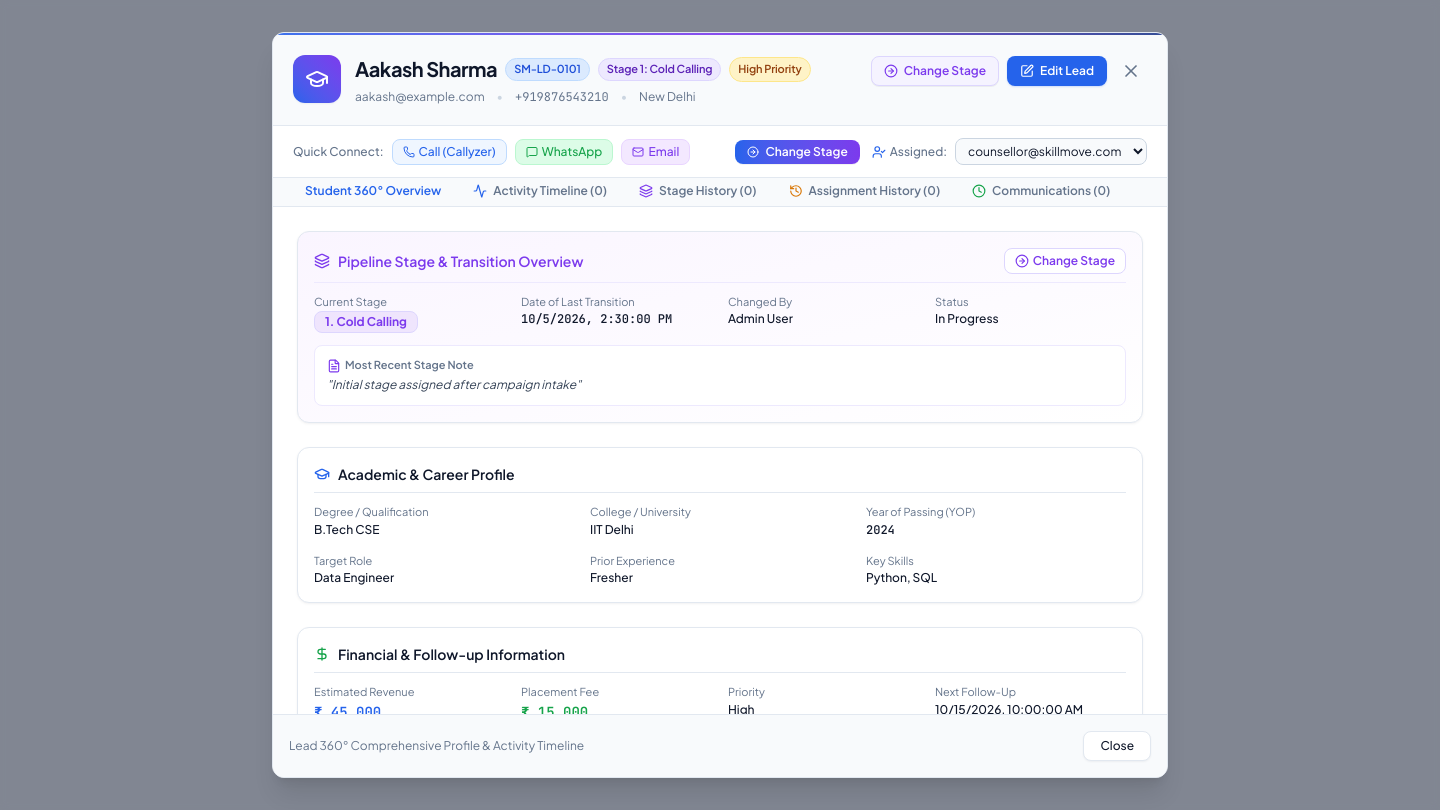
Test: Lead Stage Transitions, Audit Timeline and 360° Lead Overview › Lead360Modal Stage Information & Activity Timeline › renders Stage History tab displaying previous stage, destination stage, changed by, and mandatory note
This screenshot has width=1440, height=810.
Click the button "Stage History (0)" at (698, 192), box [627, 173, 768, 211]
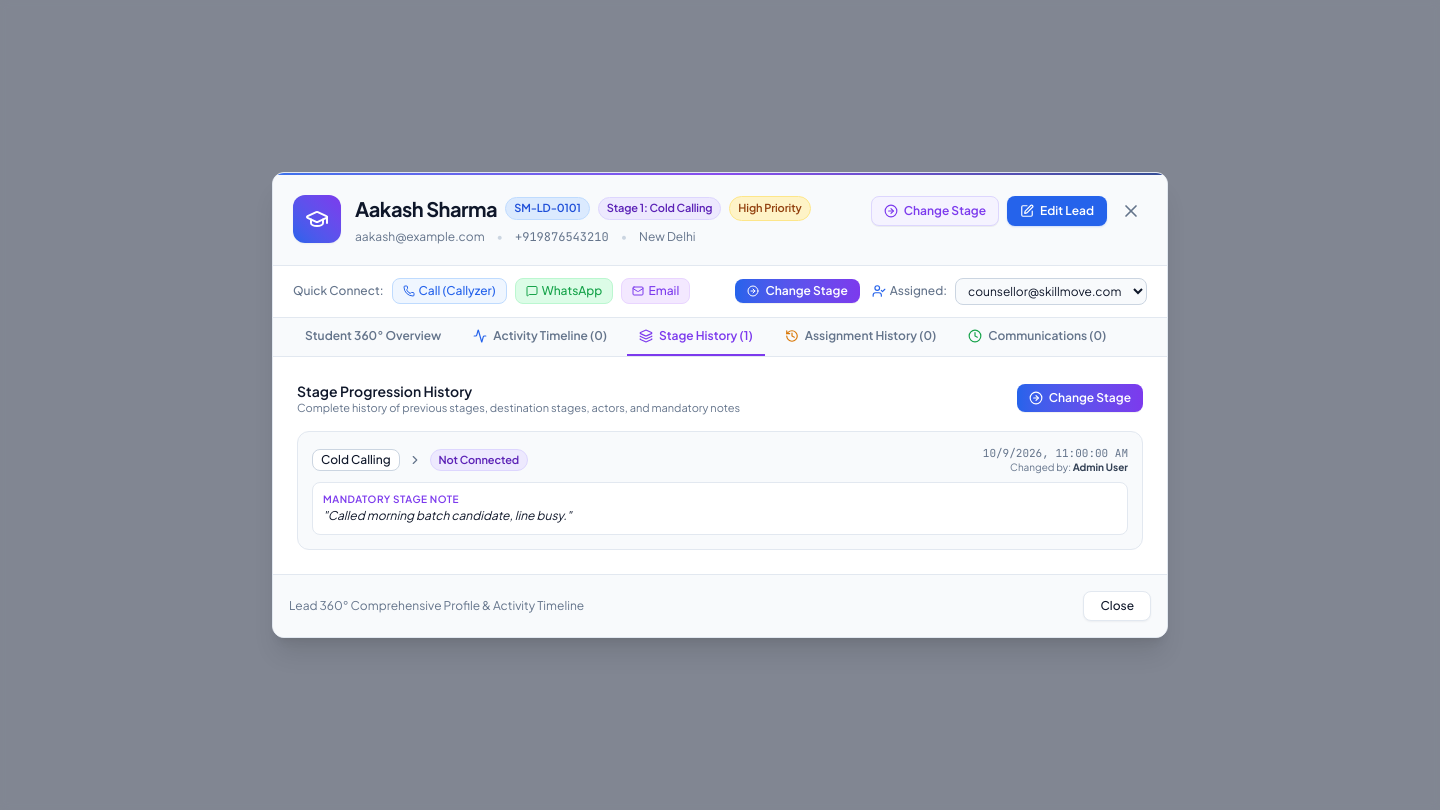
expect the text "Cold Calling" is shown: met, box [312, 449, 400, 471]
expect the text "Not Connected" is shown: met, box [430, 449, 528, 472]
expect the text "Called morning batch candidate, line busy." is shown: met, box [323, 508, 572, 524]
